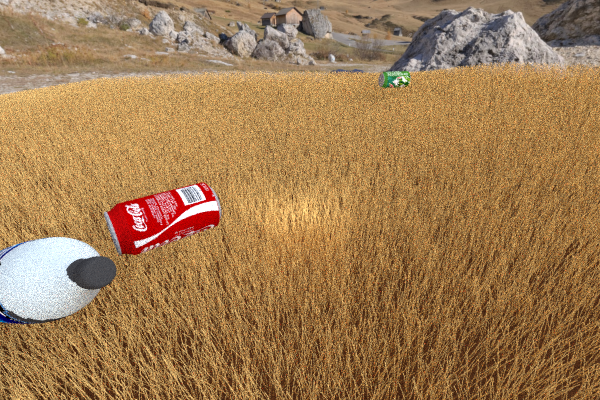bottle: (0, 237, 116, 323)
can: (103, 182, 221, 255), (378, 71, 410, 87)
